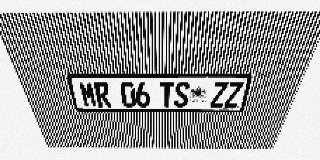0: (120, 82, 136, 107)
6: (135, 82, 150, 107)
M: (78, 82, 98, 107)
R: (93, 82, 112, 107)
S: (174, 82, 190, 107)
T: (160, 82, 175, 107)
Z: (224, 82, 244, 107), (210, 82, 229, 107)
